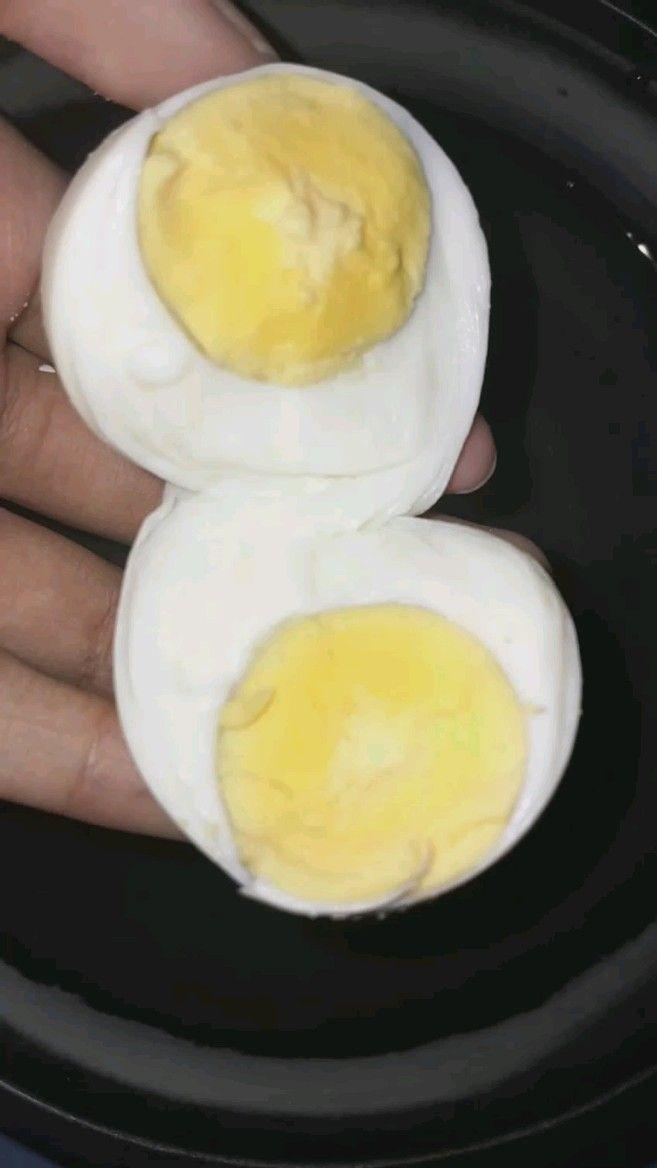eggs: (62, 78, 599, 911)
